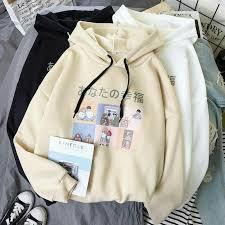sweater: (15, 22, 185, 203)
